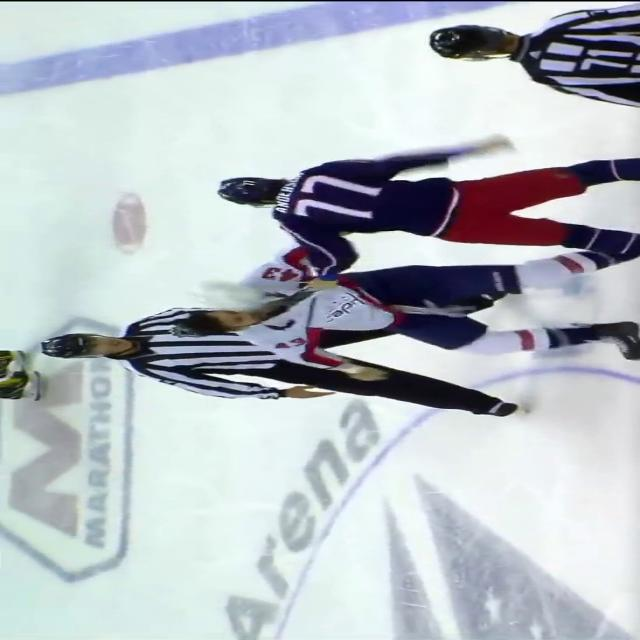Violence: (174, 136, 640, 372)
